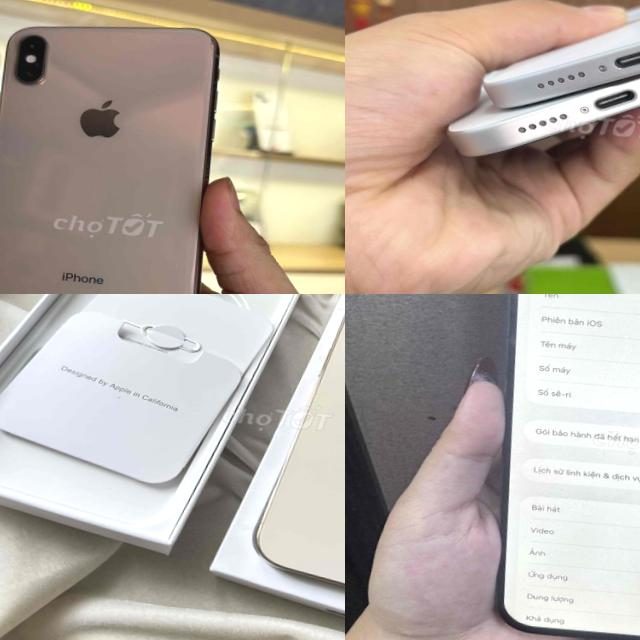gen_14: (244, 294, 345, 632)
gen_15: (482, 294, 640, 640)
gen_17: (448, 75, 640, 156)
gen_x_xs: (0, 4, 233, 294)
